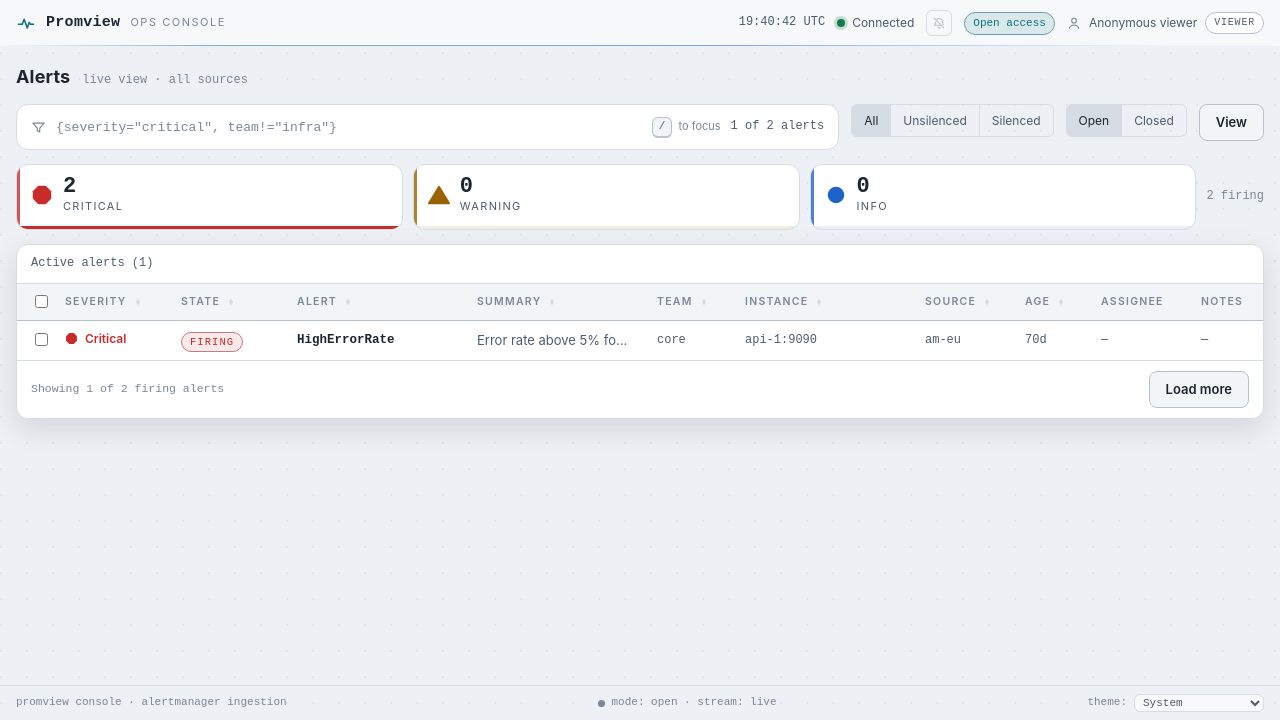
App › keeps loaded rows when loading more fails, and retries the same cursor
Expected: the text "HighErrorRate" is shown, x1=283 y1=320 x2=463 y2=360
Expected: the text "Connected" is shown, x1=852 y1=14 x2=914 y2=32
Click the button "Load more": (1199, 389) x1=1149 y1=371 x2=1249 y2=408
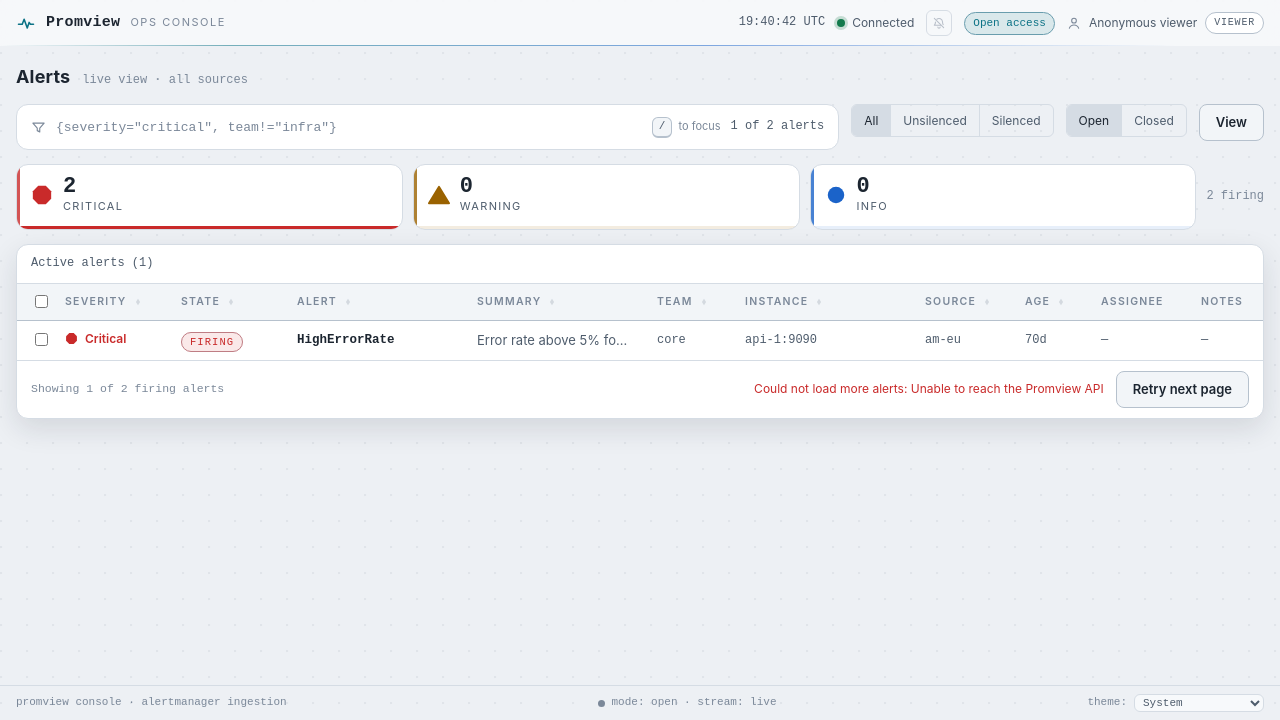
Expected: the text "HighErrorRate" is shown, x1=283 y1=320 x2=463 y2=360
Expected: the message "Could not load more alerts: Unable to reach the Promview API" is shown, x1=754 y1=380 x2=1104 y2=398
Click the button "Retry next page": (1182, 389) x1=1116 y1=371 x2=1249 y2=408
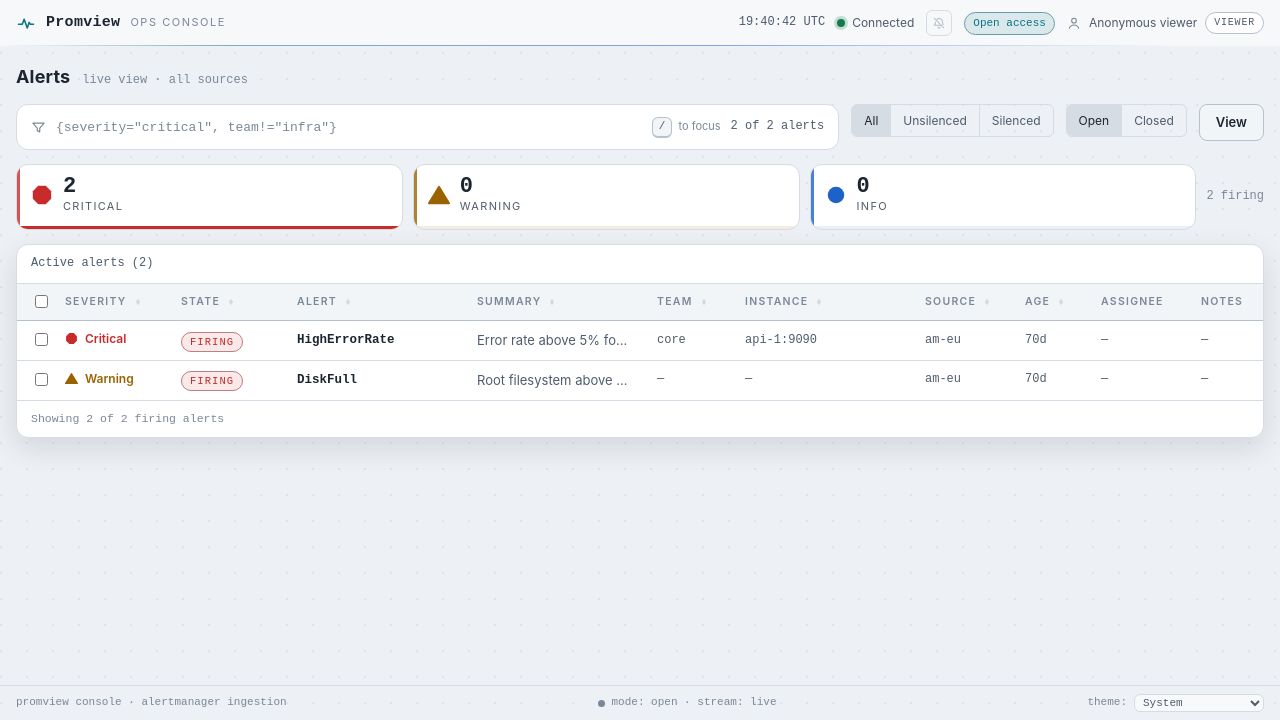
Expected: the text "DiskFull" is shown, x1=283 y1=360 x2=463 y2=400
Expected: the text "Showing 2 of 2 firing alerts" is shown, x1=31 y1=412 x2=224 y2=424
